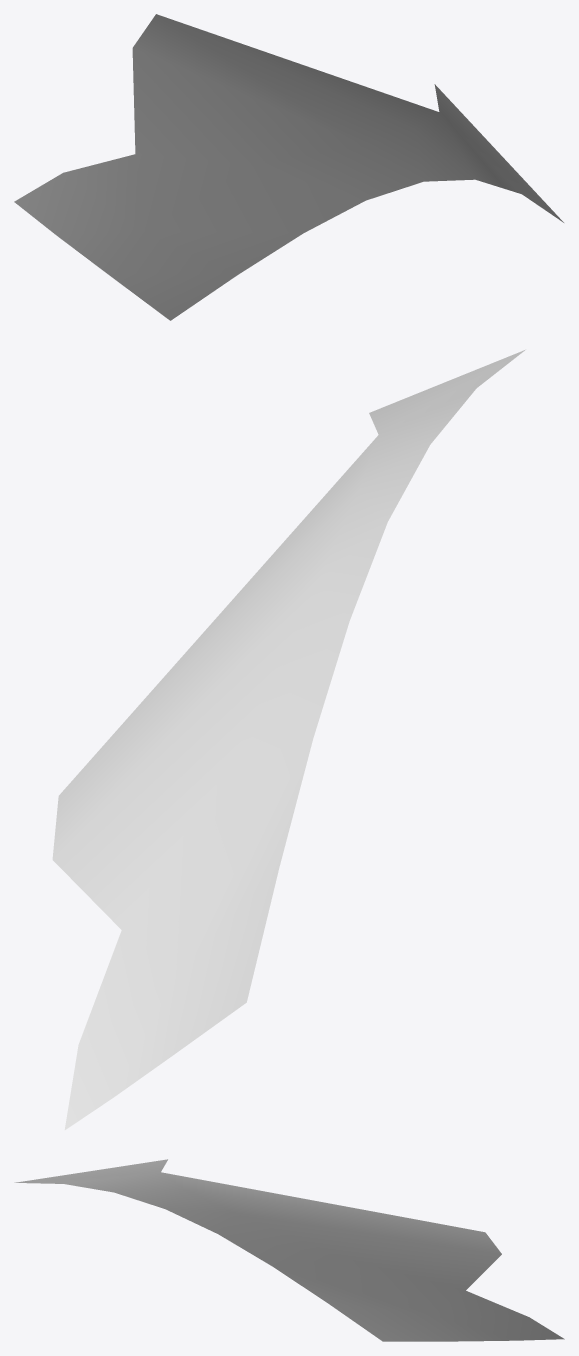
3 renders of one model, top to bottom at view 1: azimuth 30°, elevation 25°; view 2: azimuth 150°, elevation 25°; view 3: azimuth 270°, elevation 25°, orthographic. The views are drawn at different scales.
Size of the model in its own units: 0.0586 by 0.2489 by 0.6063.
Materials: 1 (1 with a texture image).
